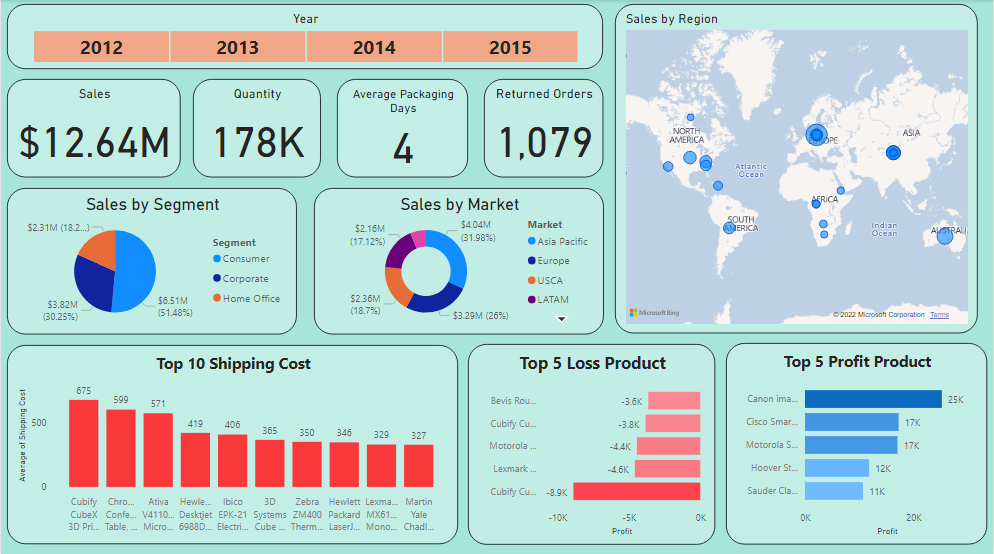

This screenshot's page, from the dashboard's own definition file:
{"tool":"powerbi","page":{"name":"Page 1","canvas":[1280,720],"ordinal":0},"visuals":[{"type":"card","title":"Sales","fields":{"Values":["Sum(Orders.Sales)"]},"box":[8.3,102.2,224.3,126.6],"z":0},{"type":"card","title":"Quantity","fields":{"Values":["Sum(Orders.Quantity)"]},"box":[247.7,102.2,165.2,126.6],"z":1000},{"type":"card","title":"Average Packaging Days","fields":{"Values":["Avg(Orders.Packaging time)"]},"box":[433.5,102.2,169.3,126.6],"z":2000},{"type":"card","title":"Returned Orders","fields":{"Values":["Sum(Returns.Return order)"]},"box":[623.5,102.2,154.2,126.6],"z":3000},{"type":"slicer","title":"Year","fields":{"Values":["Orders.Order Date.Variation.Date Hierarchy.Year"]},"box":[8.3,5.5,769.4,84],"z":4000},{"type":"clusteredBarChart","title":"Top 5 Profit Product","fields":{"Y":["Sum(Orders.Profit)"],"Category":["Orders.Product Name"]},"box":[935.9,442.2,337.2,260.1],"z":5000},{"type":"clusteredBarChart","title":"Top 5 Loss Product","fields":{"Y":["Sum(Orders.Profit)"],"Category":["Orders.Product Name"]},"box":[602.8,443.6,319.3,258.8],"z":6000},{"type":"pieChart","fields":{"Category":["Orders.Segment"],"Y":["Sum(Orders.Sales)"]},"box":[8.3,242.2,374.4,188.6],"z":7000},{"type":"donutChart","fields":{"Y":["Sum(Orders.Sales)"],"Category":["Orders.Market"]},"box":[403.3,242.2,374.4,188.6],"z":8000},{"type":"columnChart","title":"Top 10 Shipping Cost","fields":{"Category":["Orders.Product Name"],"Y":["Avg(Orders.Shipping Cost)"]},"box":[8.3,444.6,582.2,257.4],"z":9000},{"type":"map","fields":{"Category":["Orders.Region"],"Size":["Sum(Orders.Sales)"]},"box":[792.8,5.5,468,425.3],"z":10000}]}

Visuals, with their boxes in screenshot pixels (x1, y1, x2, y2), scaled from the page's 1280x720 canvas onto the 994x554 screenshot:
"Sales" card: (6, 79, 181, 176)
"Quantity" card: (192, 79, 321, 176)
"Average Packaging Days" card: (337, 79, 468, 176)
"Returned Orders" card: (484, 79, 604, 176)
"Year" slicer: (6, 4, 604, 69)
"Top 5 Profit Product" clusteredBarChart: (727, 340, 989, 540)
"Top 5 Loss Product" clusteredBarChart: (468, 341, 716, 540)
pieChart - Orders.Segment x Sum(Orders.Sales): (6, 186, 297, 331)
donutChart - Sum(Orders.Sales) x Orders.Market: (313, 186, 604, 331)
"Top 10 Shipping Cost" columnChart: (6, 342, 459, 540)
map - Orders.Region x Sum(Orders.Sales): (616, 4, 979, 331)
